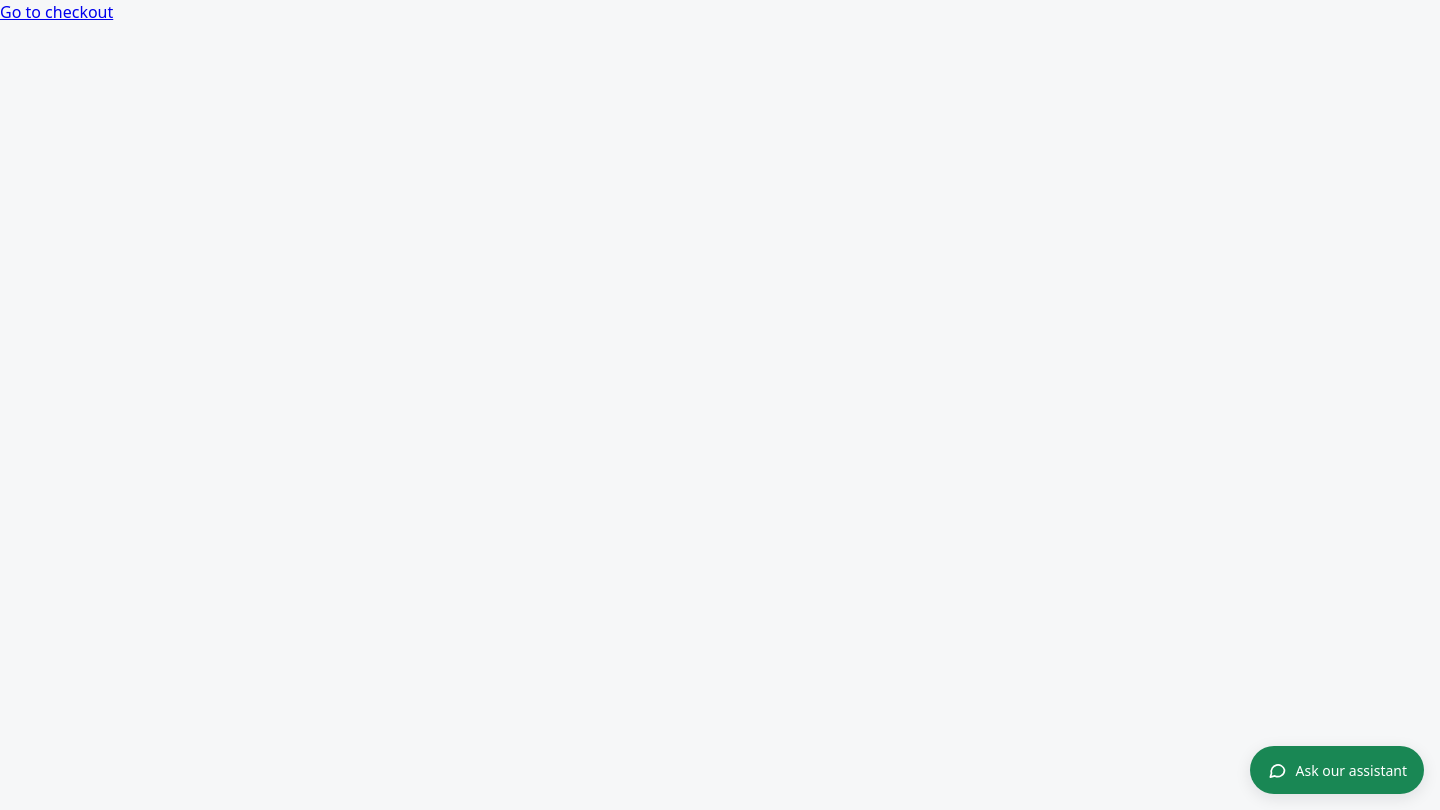
Test: ChatWidget › shows that the assistant is typing, and does not send a second question meanwhile
The image size is (1440, 810).
Click the button with test id "chat-toggle" at (1337, 770), box [1250,746,1424,794]
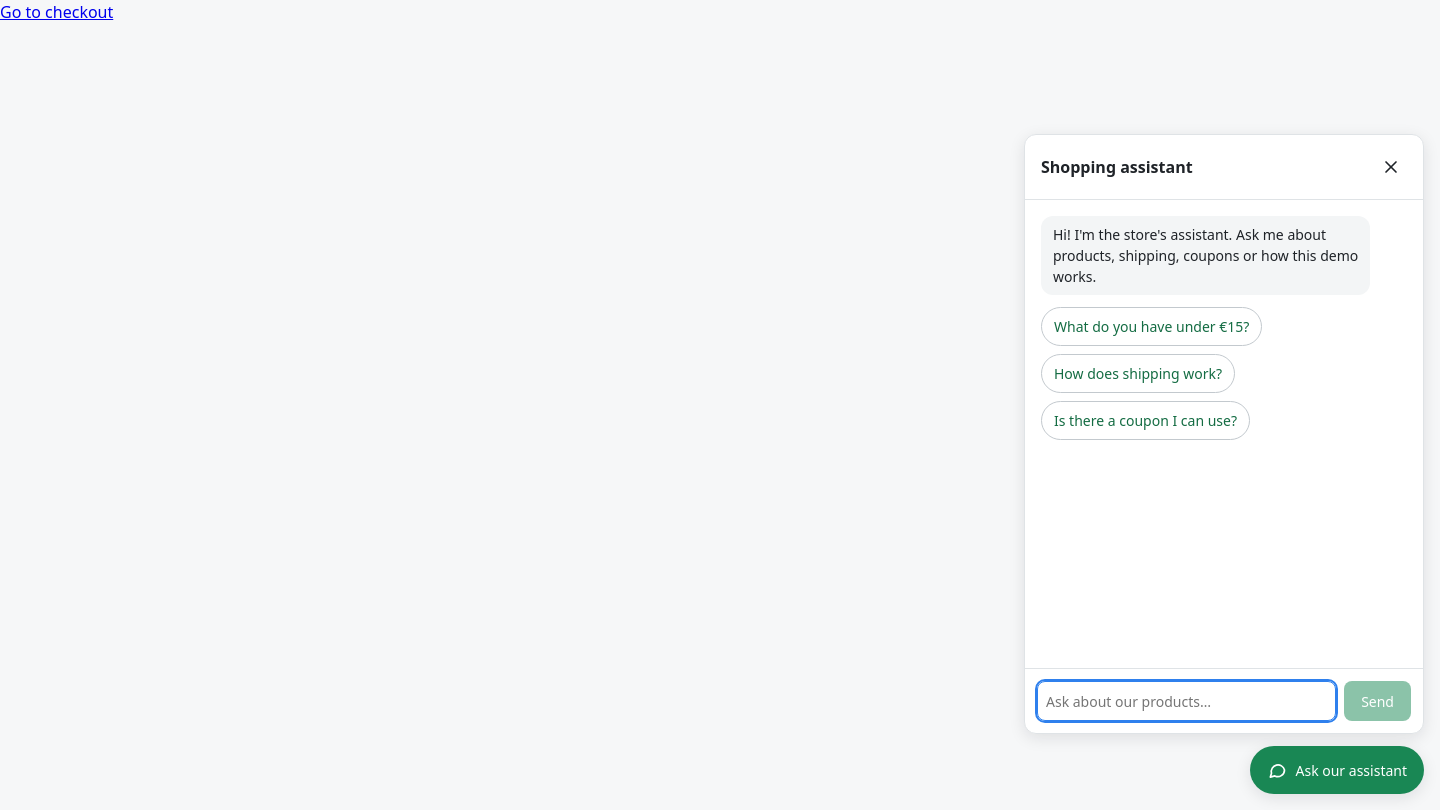
Type "First" into the field with test id "chat-input" at (1187, 701), box [1037,681,1336,721]
Then press Enter
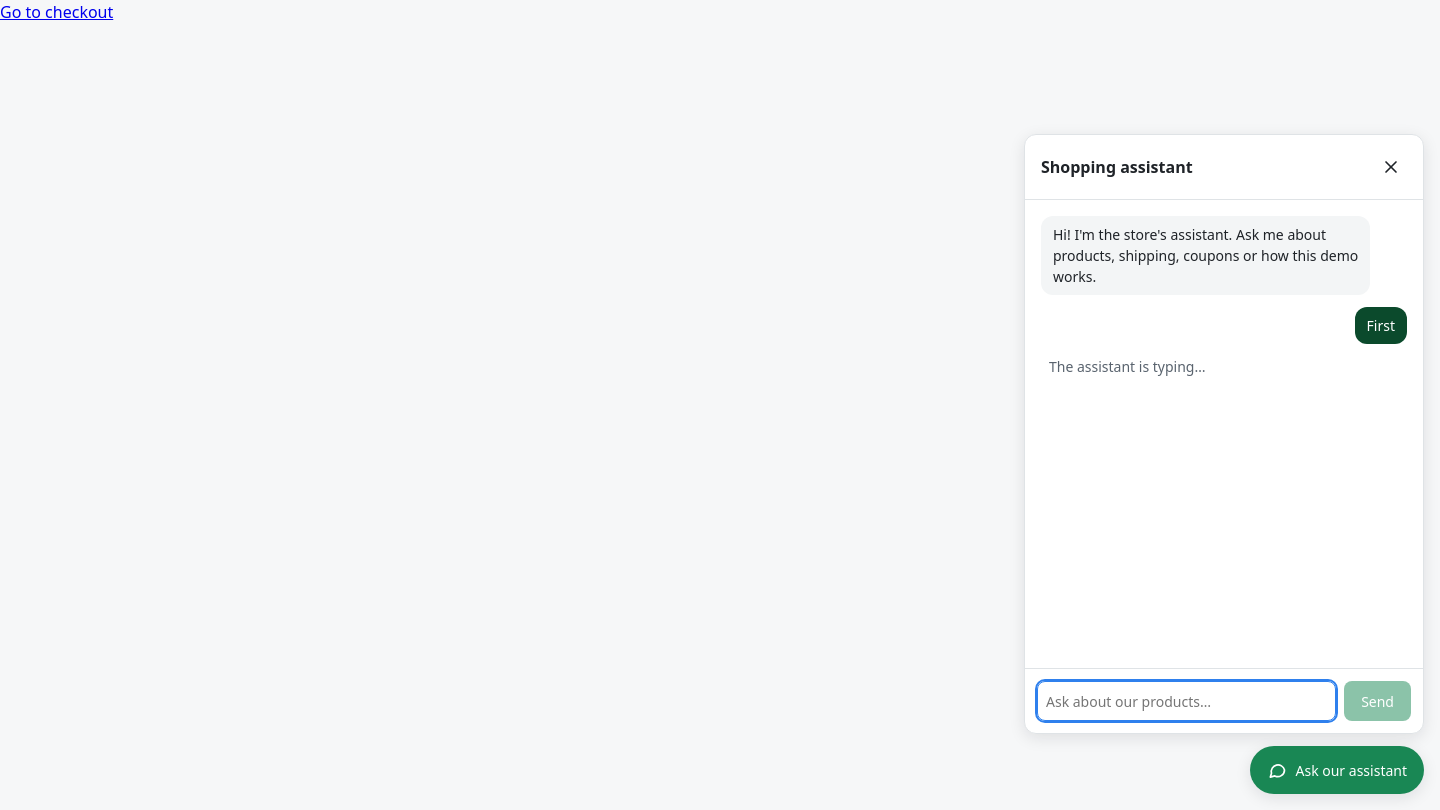
expect the message with test id "chat-typing" reads "The assistant is typing…": met, box [1049,357,1206,376]
Type "Second" into the field with test id "chat-input" at (1187, 701), box [1037,681,1336,721]
Then press Enter
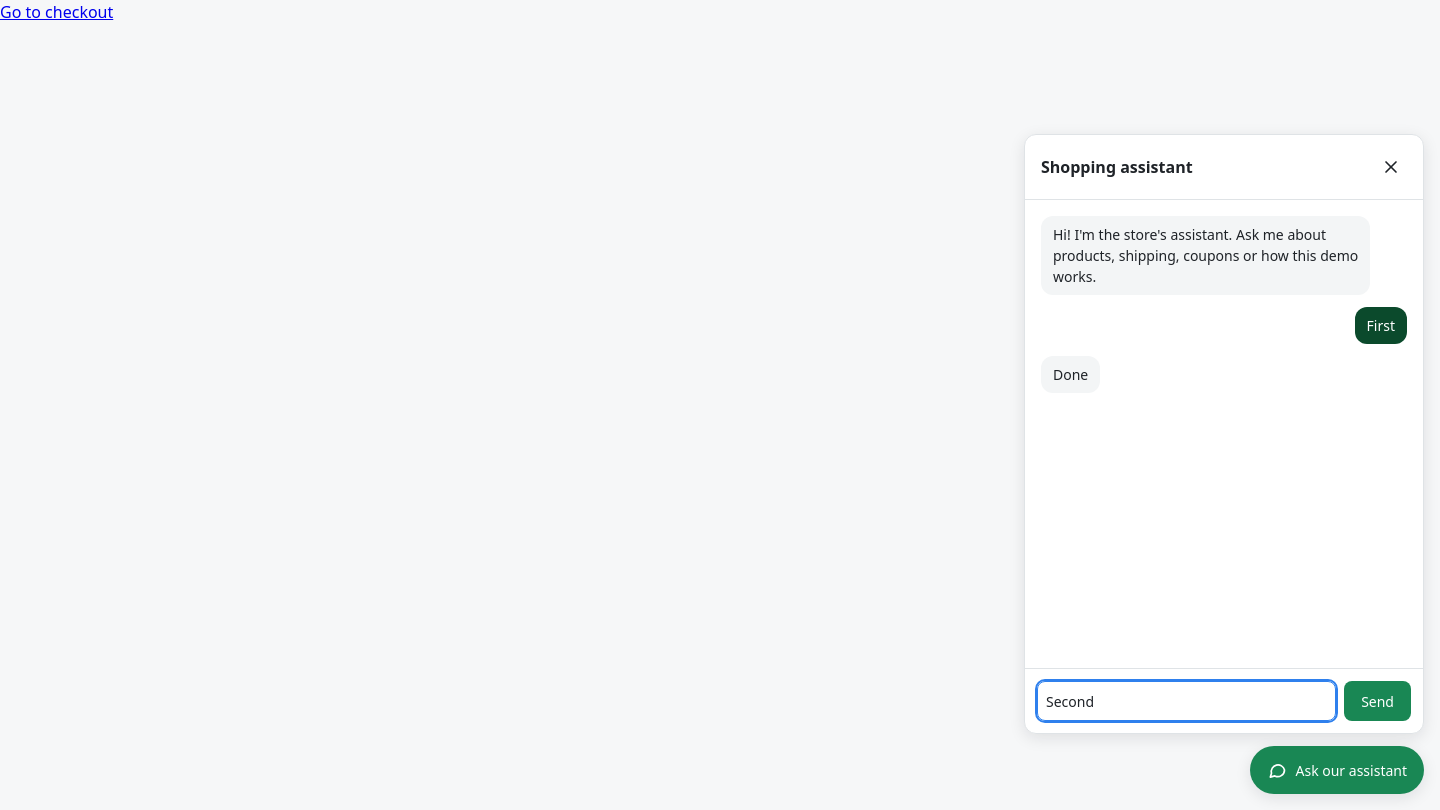
expect the message with test id "chat-typing" is gone: met
